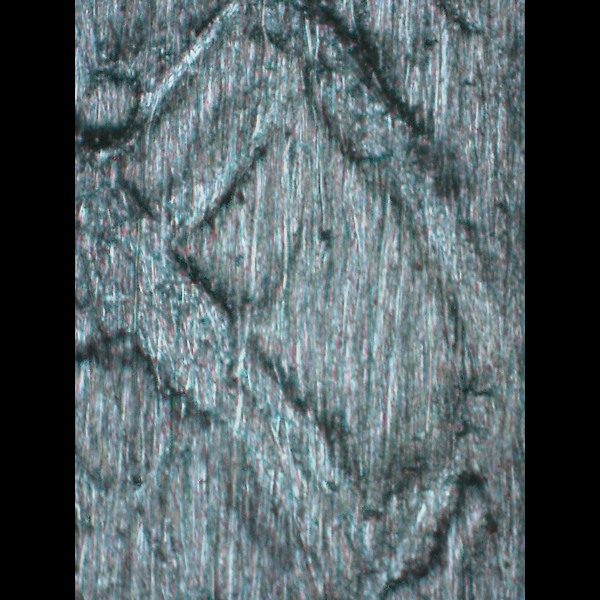d: (80, 0, 483, 592)
